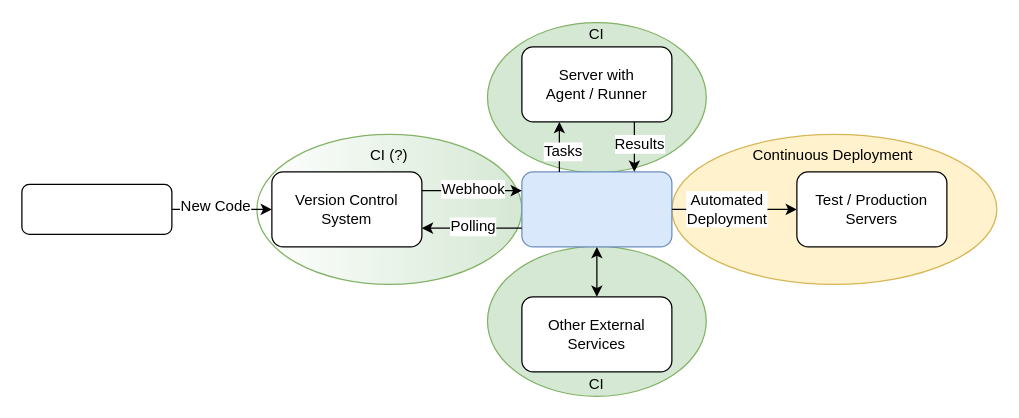
The diagram is 1019 pixels wide and 418 high, and some of its shapes have lost their labels. The box of each missing label's shape, as (x1, y1, x2, y2) in pixels:
CI/CD Server: (521, 171, 672, 247)
Programmer: (21, 183, 172, 234)
